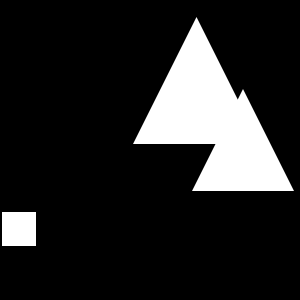circle: (2, 212, 36, 246)
triangle: (133, 17, 260, 144), (192, 89, 294, 191)
